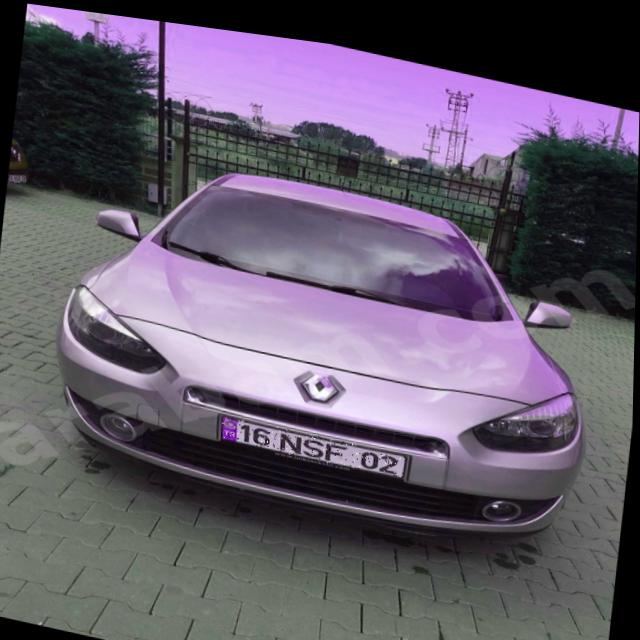license_plate: (220, 407, 409, 468)
